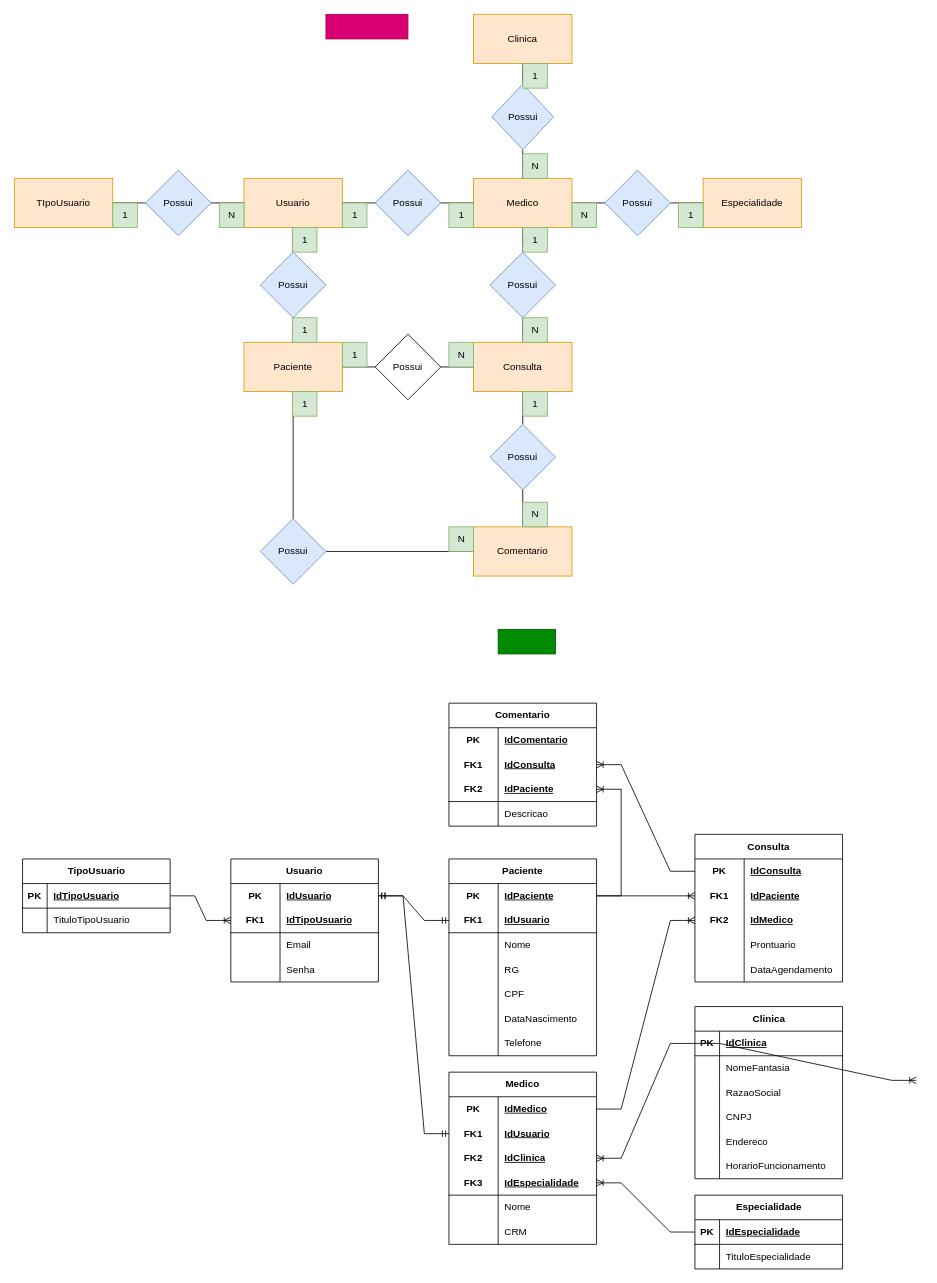
Image size: 937x1283. Some labels were removed from this diagram. Each missing label, with the centre of its shape:
CONCEITUAL: point (366, 26)
LOGICO: point (526, 641)
